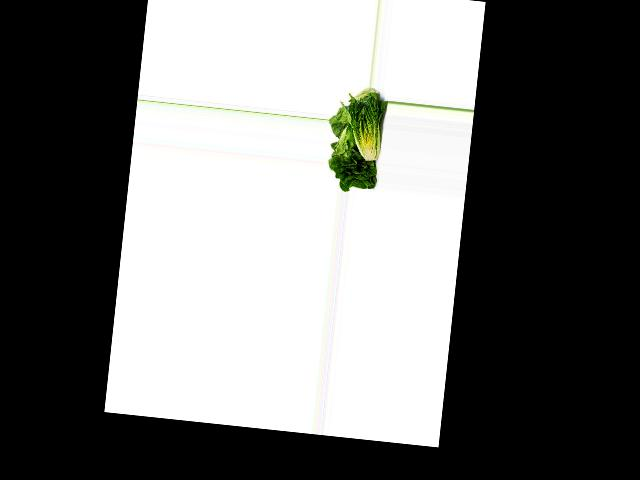lettuce: (326, 126, 385, 193)
